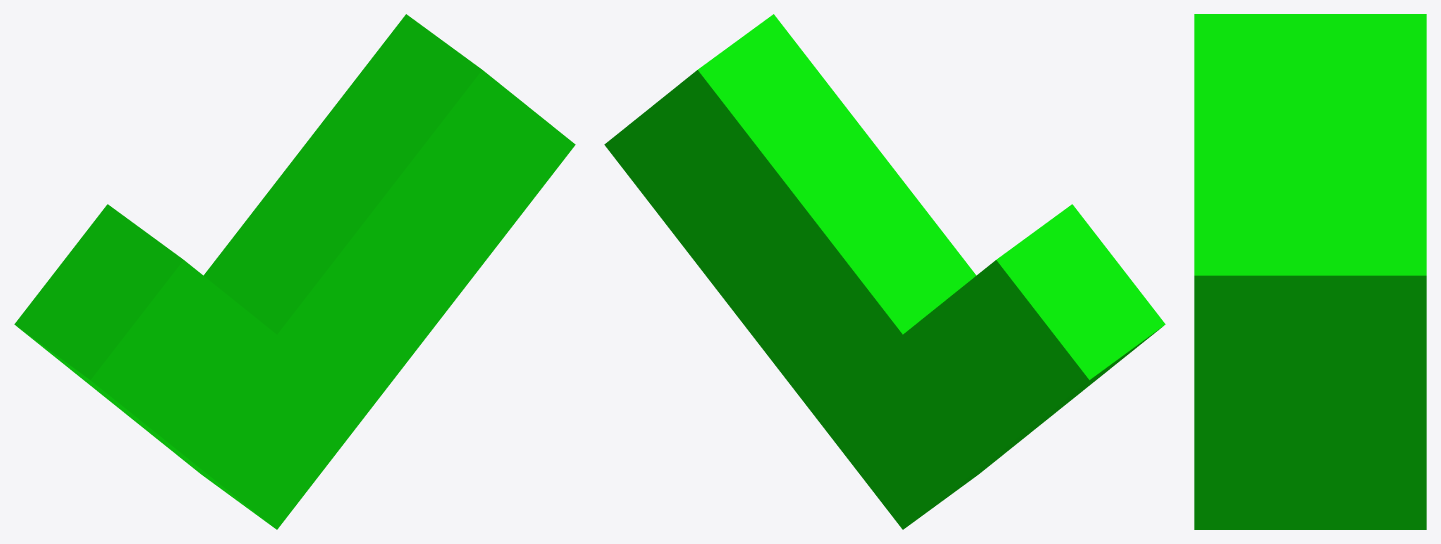
The model's file is CheckMark.glb.
3 renders of one model, left to right at view 1: azimuth 30°, elevation 25°; view 2: azimuth 150°, elevation 25°; view 3: azimuth 270°, elevation 25°, orthographic. The views are drawn at different scales.
Parts seen in each view (by area): view 1: object1; view 2: object1; view 3: object1.
Part boxes in pixels (x1,y1,x2,y2): object1: (14, 14, 575, 529); object1: (604, 14, 1165, 529); object1: (1194, 14, 1426, 529).
Size of the model in its own units: 9.73 by 7.86 by 2.65.
